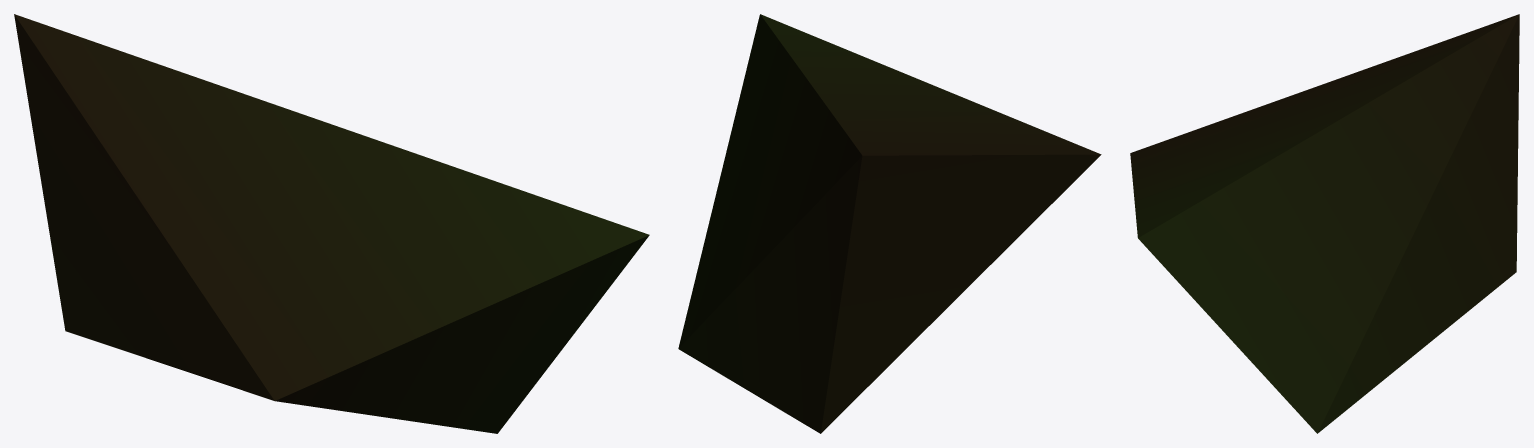
The model's file is tf_talus_chunk_1_lod2.glb.
3 views of the same model, side by side, from view 1: azimuth 30°, elevation 25°; view 2: azimuth 150°, elevation 25°; view 3: azimuth 270°, elevation 25° (orthographic). The views are drawn at different scales.
Visible parts, largest first — view 1: tf_talus_chunk_1_lod2; view 2: tf_talus_chunk_1_lod2; view 3: tf_talus_chunk_1_lod2.
Part boxes in pixels (box(x1,y1,x2,y2)): tf_talus_chunk_1_lod2: box(14, 14, 649, 433); tf_talus_chunk_1_lod2: box(678, 14, 1101, 433); tf_talus_chunk_1_lod2: box(1130, 14, 1519, 433).
Bounding box in the file's own units: 0.7945 × 0.8053 × 0.9599.
